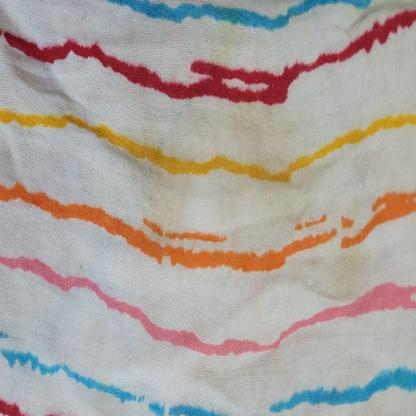spot: (113, 55, 344, 248), (184, 2, 261, 57)
